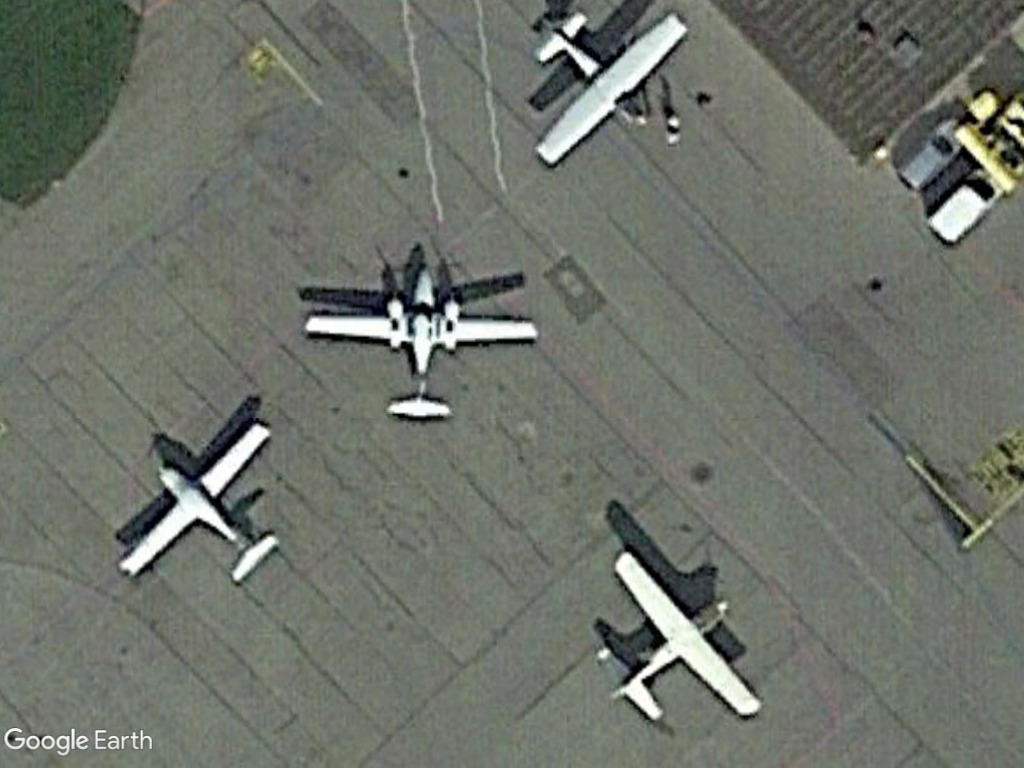trainer: (299, 257, 544, 427), (596, 548, 769, 731), (112, 418, 282, 592), (518, 7, 691, 171)
